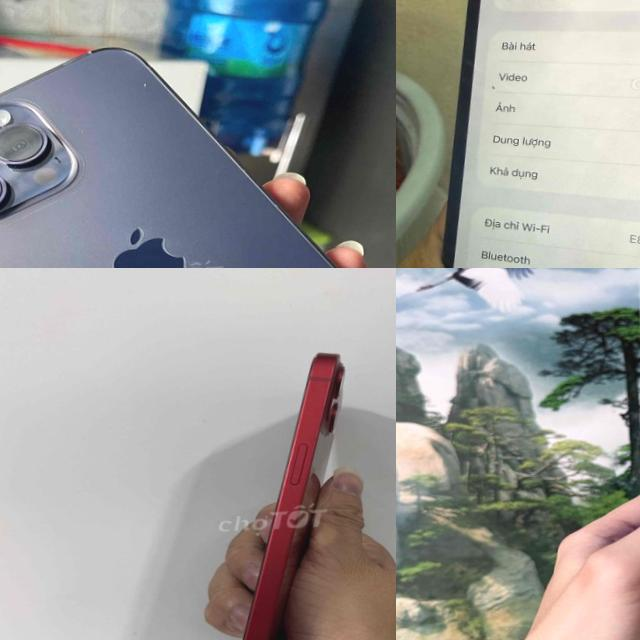scratch: (128, 68, 159, 106)
